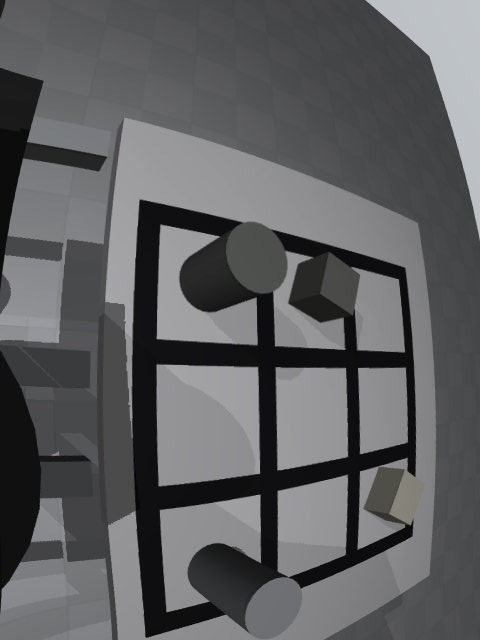can: (187, 543, 302, 639)
cube: (288, 251, 360, 322)
cylinder: (180, 221, 288, 313)
foam: (363, 467, 425, 526)
